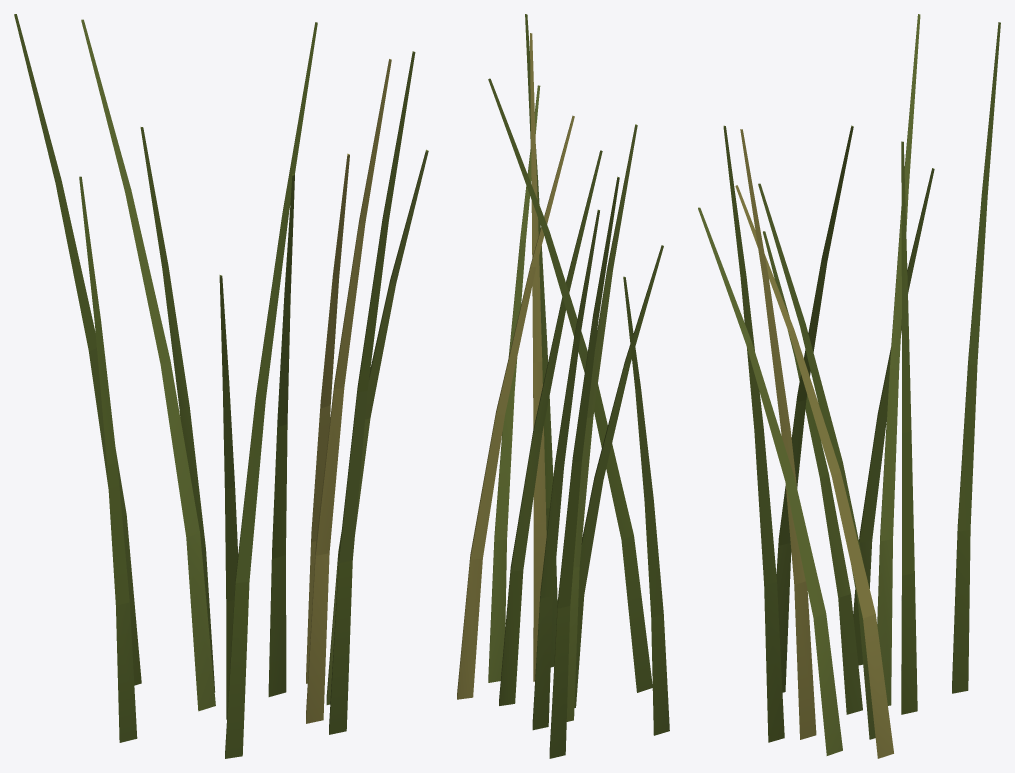
Rendered from reeds_a.glb.
The picture shows the model from 3 angles, left to right: view 1: azimuth 30°, elevation 25°; view 2: azimuth 150°, elevation 25°; view 3: azimuth 270°, elevation 25°; orthographic projection. The views are drawn at different scales.
Bounding box in the file's own units: 0.4945 × 1.3 × 0.5536.
